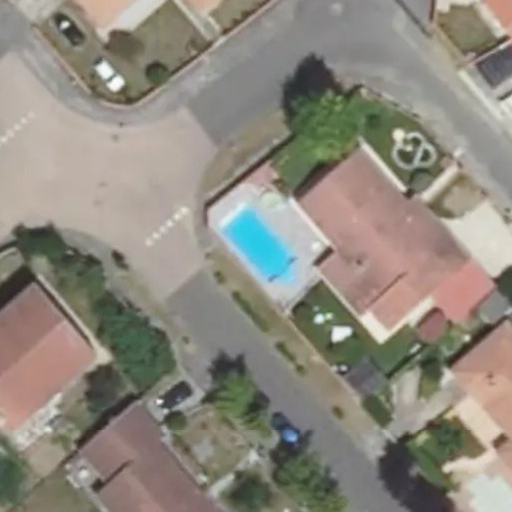pool: (214, 200, 298, 289)
